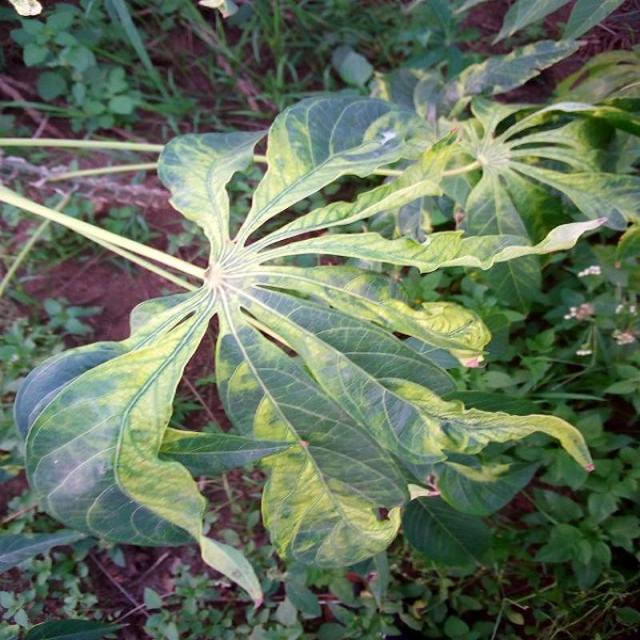cassava leaf: (11, 88, 608, 600)
